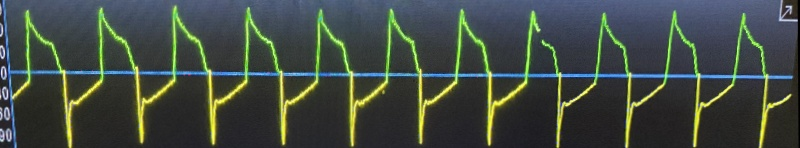peepi: (3, 0, 782, 148)
